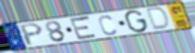8: (45, 20, 67, 43)
C: (97, 14, 118, 37)
D: (146, 6, 172, 32)
E: (69, 15, 100, 41)
G: (124, 9, 150, 34)
P: (19, 22, 44, 47)
